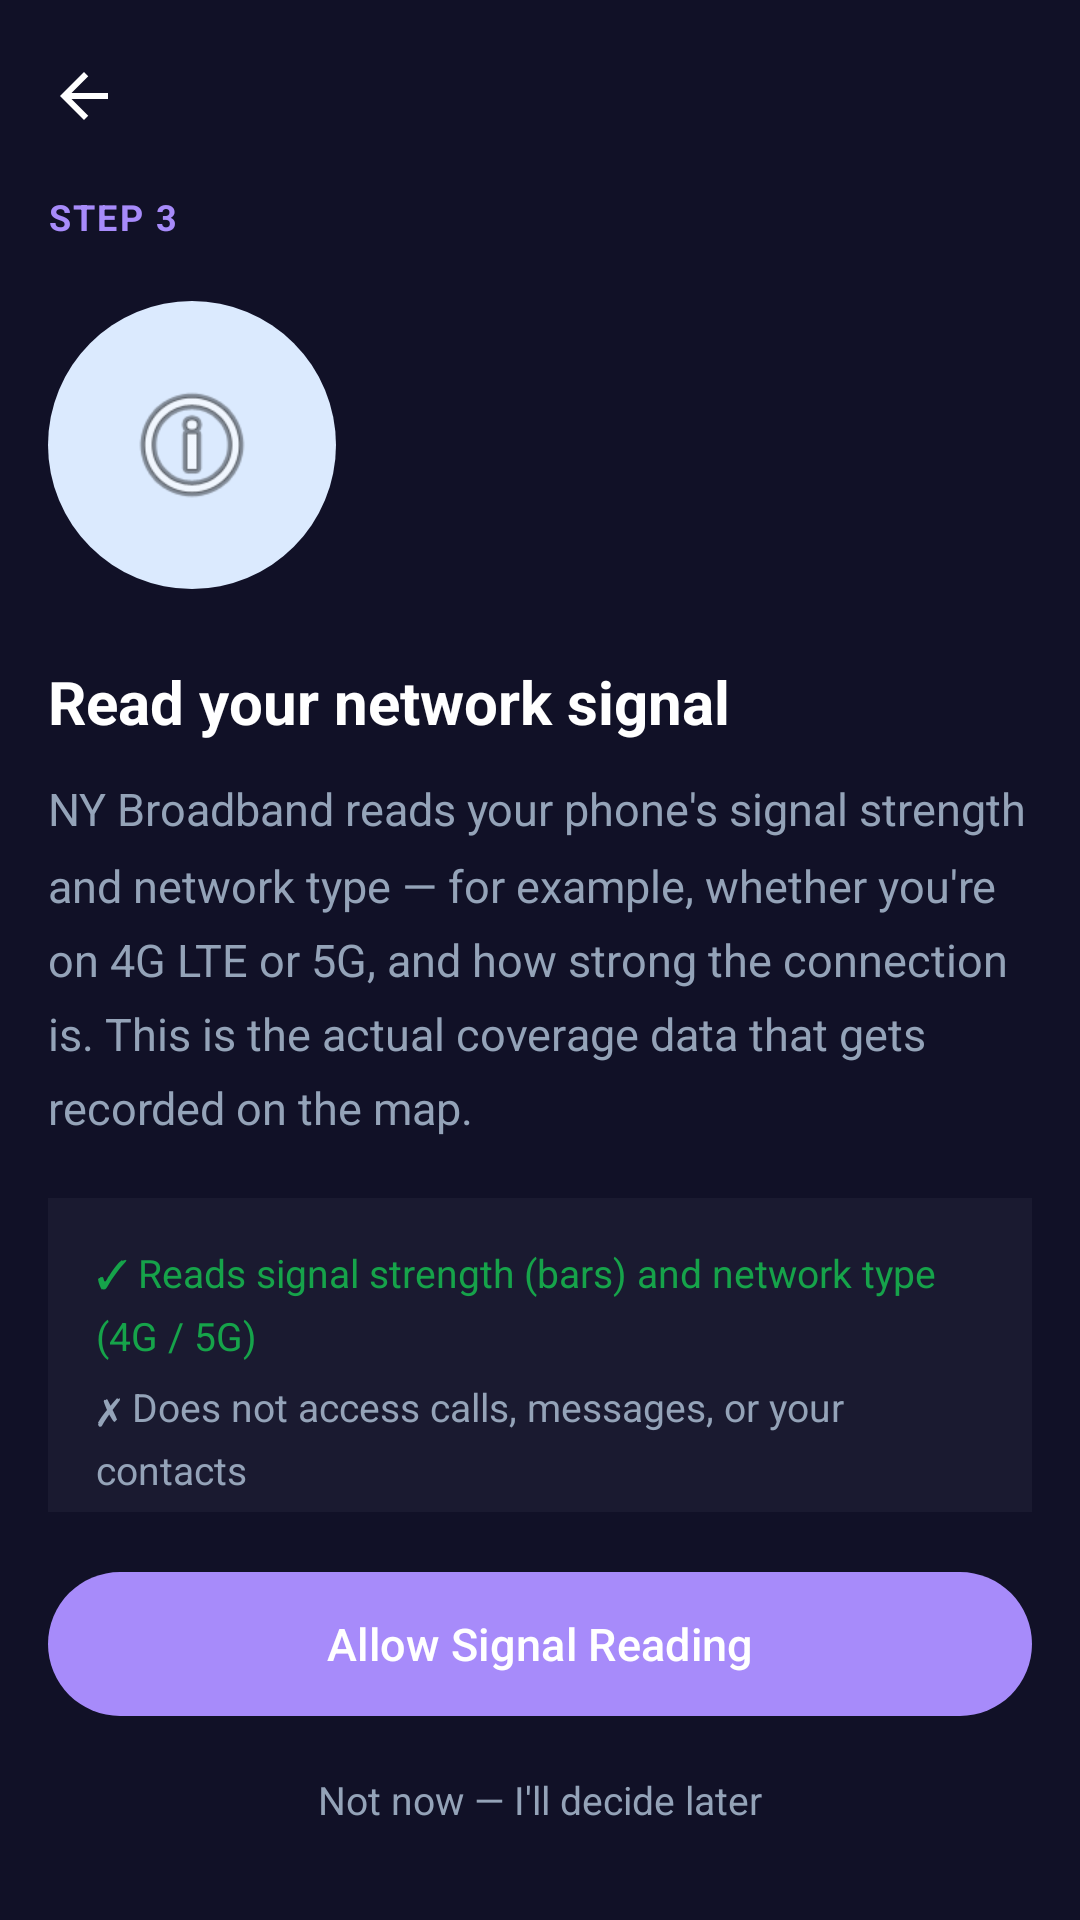

Locate icon controls on the screen. Image size 1080px x 1920px, boxes as (x1, y1, x2, y2).
info details: (48, 301, 336, 589)
